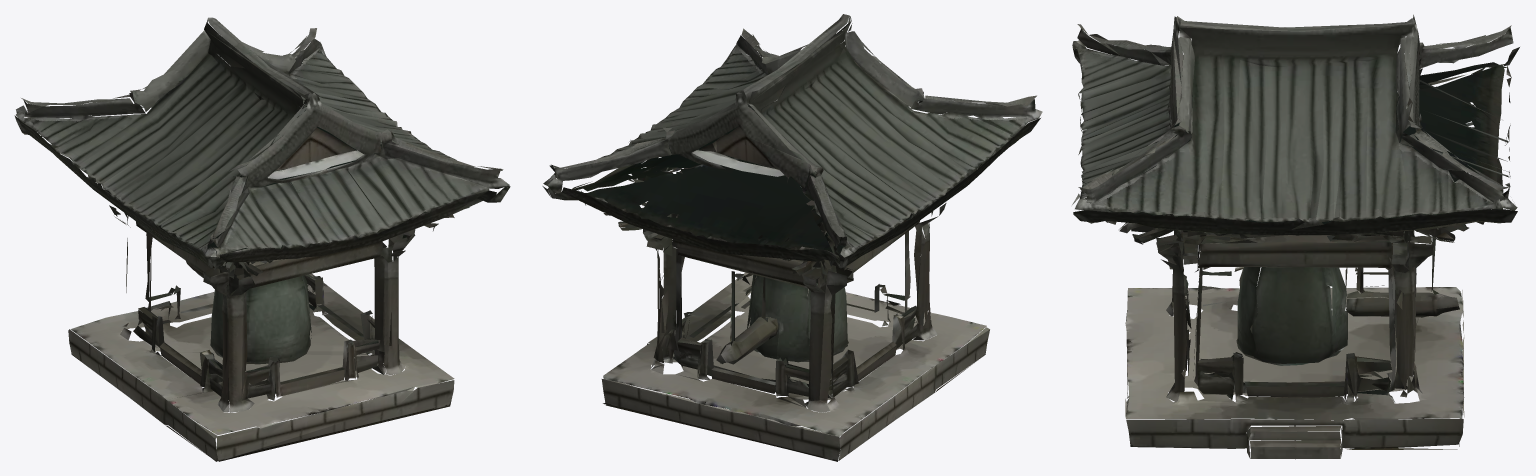
The model's file is interactiveBelfry.glb.
3 renders of one model, left to right at view 1: azimuth 30°, elevation 25°; view 2: azimuth 150°, elevation 25°; view 3: azimuth 270°, elevation 25°, orthographic. The views are drawn at different scales.
Visible parts, largest first — view 1: Prop_interactiveBelfry; view 2: Prop_interactiveBelfry; view 3: Prop_interactiveBelfry.
Part boxes in pixels (x1,y1,x2,y2): Prop_interactiveBelfry: [14, 17, 510, 461]; Prop_interactiveBelfry: [542, 14, 1042, 461]; Prop_interactiveBelfry: [1072, 14, 1519, 459].
Bounding box in the file's own units: 3.66 × 4.2 × 4.14.
1 material, 1 textured.
